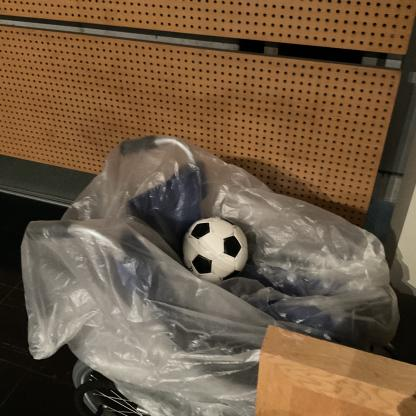ball: (183, 217, 250, 283), (182, 217, 249, 283)
